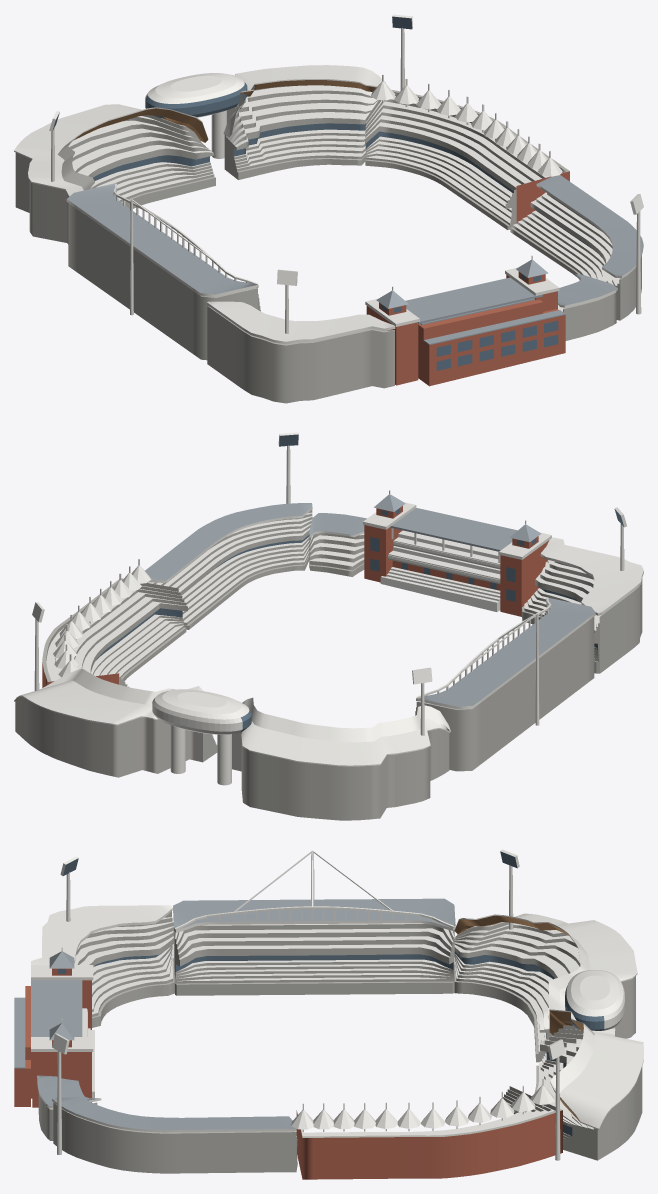
The model's file is london-lords.detail.glb.
3 renders of one model, top to bottom at view 1: azimuth 30°, elevation 25°; view 2: azimuth 150°, elevation 25°; view 3: azimuth 270°, elevation 25°, orthographic. The views are drawn at different scales.
Parts seen in each view (by area): view 1: Lord's Cricket Ground; view 2: Lord's Cricket Ground; view 3: Lord's Cricket Ground.
Boxes of the visible parts, box(x1,y1,x2,y2) form: Lord's Cricket Ground: box(14, 14, 643, 403); Lord's Cricket Ground: box(14, 432, 643, 820); Lord's Cricket Ground: box(14, 849, 643, 1179).
Bounding box in the file's own units: 182 × 49.36 × 226.
